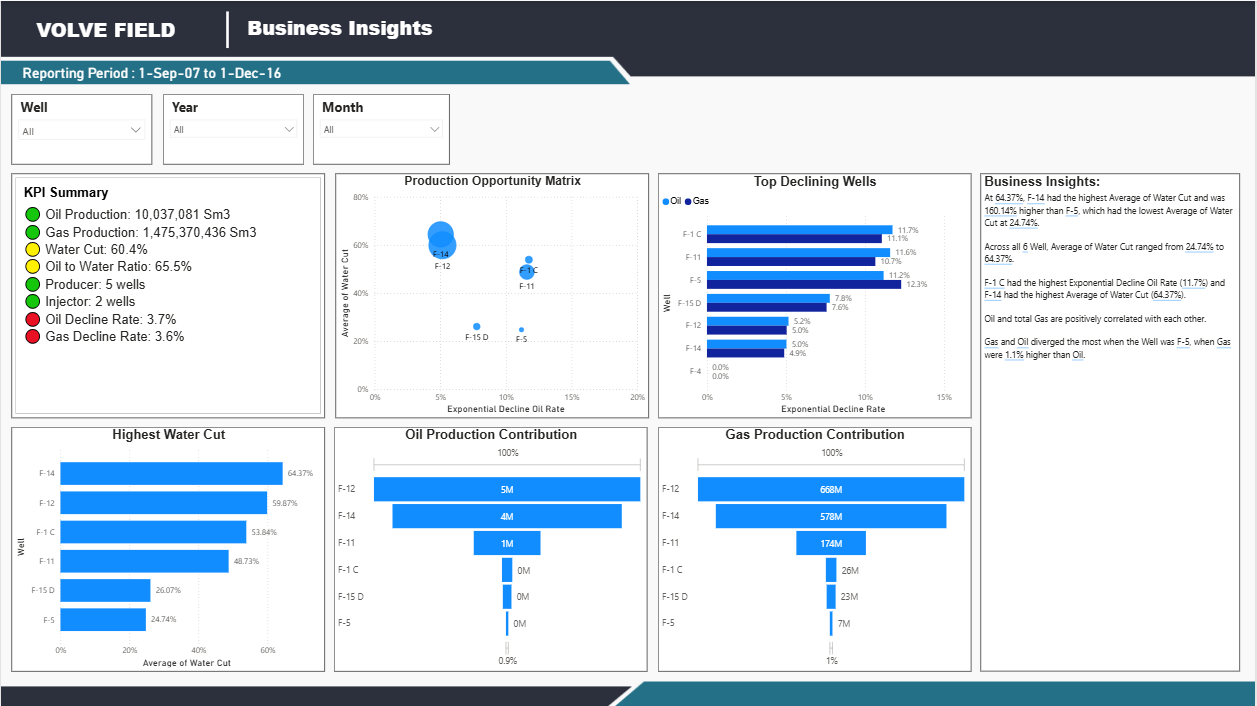

What the dashboard file says about the page in this screenshot:
{"tool":"powerbi","page":{"name":"Business Insights","canvas":[1920,1080],"ordinal":3},"visuals":[{"type":"textbox","title":"Business Insights","box":[372.3,20.7,1054.7,46],"z":0},{"type":"shape","title":"Vertical","box":[321.9,15,50.5,56],"z":1000},{"type":"group","id":"g1","title":"Filter","box":[0,0,1920.6,1080],"z":2000},{"type":"textbox","title":"VOLVE FIELD","box":[11.5,23,298.7,39.1],"z":3000},{"type":"cardVisual","fields":{"Data":["Daily Production Data.Reporting Period"]},"box":[16.1,71.2,478,71.2],"z":4000},{"type":"slicer","fields":{"Values":["Daily Production Data.WELLBORE NAME"]},"box":[16.1,142.5,215,108],"z":5000},{"type":"slicer","fields":{"Values":["Date.Year"]},"box":[248.2,142.5,216,108],"z":6000},{"type":"slicer","fields":{"Values":["Date.Month"]},"box":[478,142.5,209.1,108],"z":7000},{"type":"cardVisual","title":"KPI Summary","fields":{"Data":["Production.KPI Summary"]},"box":[16.1,264.3,480.3,374.6],"z":8000},{"type":"scatterChart","title":"Production Opportunity Matrix","fields":{"X":["Production.Exponential Decline Oil Rate"],"Category":["Production.WELLBORE NAME"],"Y":["Production.Average of Water Cut"],"Size":["Sum(Production.BORE_OIL_VOL)"]},"box":[512.4,264.3,480.3,374.6],"z":9000},{"type":"clusteredBarChart","title":"Top Declining Wells","fields":{"Category":["Production.WELLBORE NAME"],"Y":["Production.Exponential Decline Oil Rate","Production.Exponential Decline Gas Rate"]},"box":[1006.5,264.3,480.3,374.6],"z":10000},{"type":"clusteredBarChart","title":"Highest Water Cut","fields":{"Category":["Production.WELLBORE NAME"],"Y":["Production.Average of Water Cut"]},"box":[16.1,652.6,480.3,374.6],"z":11000},{"type":"funnel","title":"Oil Production Contribution","fields":{"Category":["Production.WELLBORE NAME"],"Y":["Sum(Production.BORE_OIL_VOL)"]},"box":[510.1,652.6,480.3,374.6],"z":12000},{"type":"funnel","title":"Gas Production Contribution","fields":{"Category":["Production.WELLBORE NAME"],"Y":["Sum(Production.BORE_GAS_VOL)"]},"box":[1006.5,652.6,480.3,374.6],"z":13000},{"type":"textbox","title":"Business Insights:","box":[1500.5,264.3,397.5,762.9],"z":14000}]}

Visuals, with their boxes in screenshot pixels (x1, y1, x2, y2), scaled from the page's 1920x1080 canvas onto the 1257x706 screenshot:
"Business Insights" textbox: 244:14:934:44
"Vertical" shape: 211:10:244:46
"Filter" group: 0:0:1256:705
"VOLVE FIELD" textbox: 8:15:203:41
cardVisual - Daily Production Data.Reporting Period: 11:47:323:93
slicer - Daily Production Data.WELLBORE NAME: 11:93:151:164
slicer - Date.Year: 162:93:304:164
slicer - Date.Month: 313:93:450:164
"KPI Summary" cardVisual: 11:173:325:418
"Production Opportunity Matrix" scatterChart: 335:173:650:418
"Top Declining Wells" clusteredBarChart: 659:173:973:418
"Highest Water Cut" clusteredBarChart: 11:427:325:671
"Oil Production Contribution" funnel: 334:427:648:671
"Gas Production Contribution" funnel: 659:427:973:671
"Business Insights:" textbox: 982:173:1243:671
